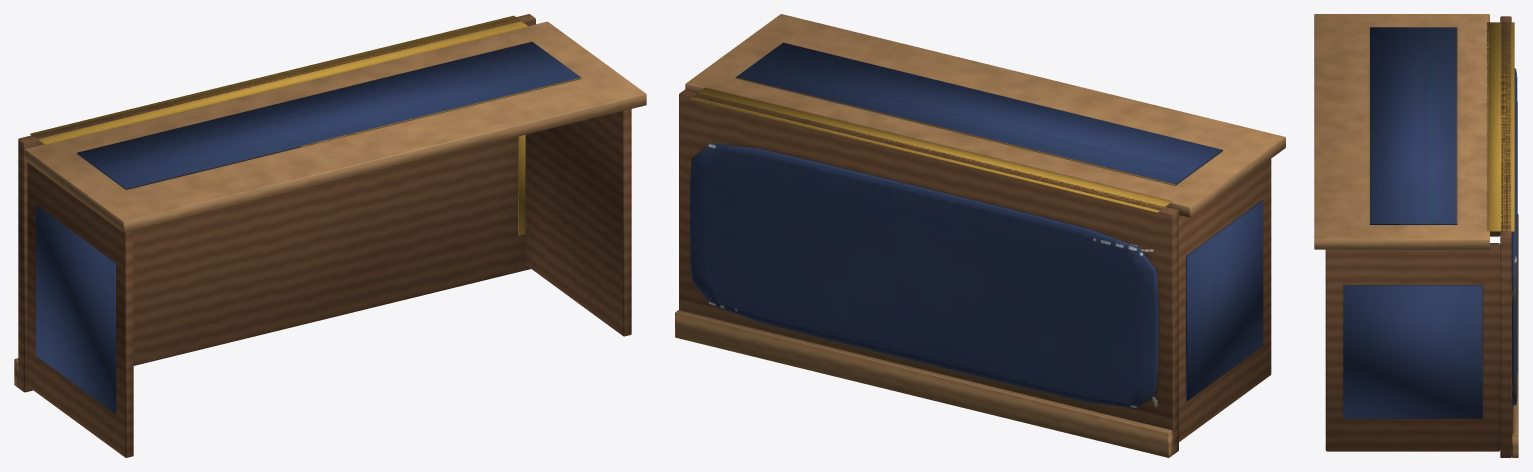
Rendered from snowman_counter.glb.
3 views of the same model, side by side, from view 1: azimuth 30°, elevation 25°; view 2: azimuth 150°, elevation 25°; view 3: azimuth 270°, elevation 25° (orthographic). The views are drawn at different scales.
Visible parts, largest first — view 1: prop_front_wood, prop_top_wood, prop_top_felt, prop_side_r_wood, prop_side_l_felt, prop_side_l_wood, prop_front_felt; view 2: prop_front_felt, prop_front_wood, prop_top_felt, prop_top_wood, prop_side_l_felt, prop_side_l_wood; view 3: prop_top_wood, prop_top_felt, prop_side_r_felt, prop_side_r_wood, prop_front_wood, prop_front_felt.
Part boxes in pixels (x1,y1,x2,y2): prop_front_wood: [14, 14, 535, 392]; prop_top_wood: [25, 21, 646, 232]; prop_top_felt: [30, 15, 581, 189]; prop_side_r_wood: [525, 109, 631, 336]; prop_side_l_felt: [36, 205, 115, 413]; prop_side_l_wood: [27, 162, 133, 457]; prop_front_felt: [518, 135, 525, 235]; prop_front_felt: [690, 143, 1158, 408]; prop_front_wood: [675, 89, 1178, 457]; prop_top_felt: [690, 42, 1222, 213]; prop_top_wood: [685, 14, 1285, 217]; prop_side_l_felt: [1186, 200, 1263, 400]; prop_side_l_wood: [1179, 159, 1271, 441]; prop_top_wood: [1314, 14, 1489, 249]; prop_top_felt: [1370, 22, 1514, 231]; prop_side_r_felt: [1343, 285, 1482, 418]; prop_side_r_wood: [1325, 243, 1500, 451]; prop_front_wood: [1500, 16, 1518, 457]; prop_front_felt: [1511, 68, 1517, 405].
Size of the model in its own units: 1.84 by 0.844 by 0.704.
Materials: 8 (8 with a texture image).
